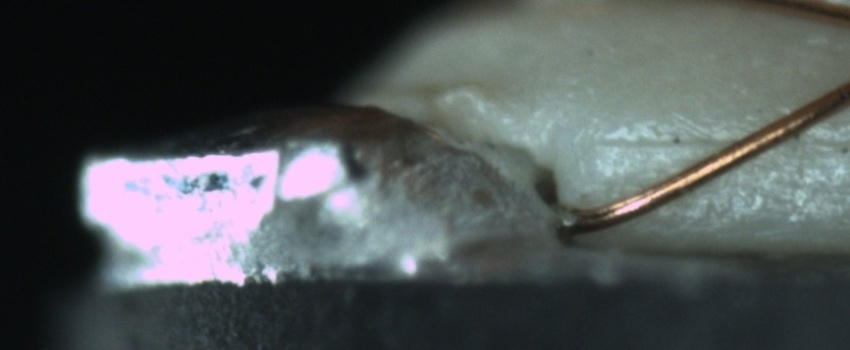DL: (607, 107, 846, 174)
